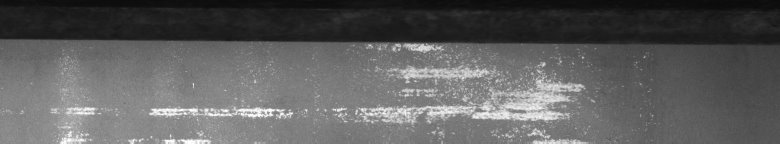kb: (4, 36, 701, 136)
